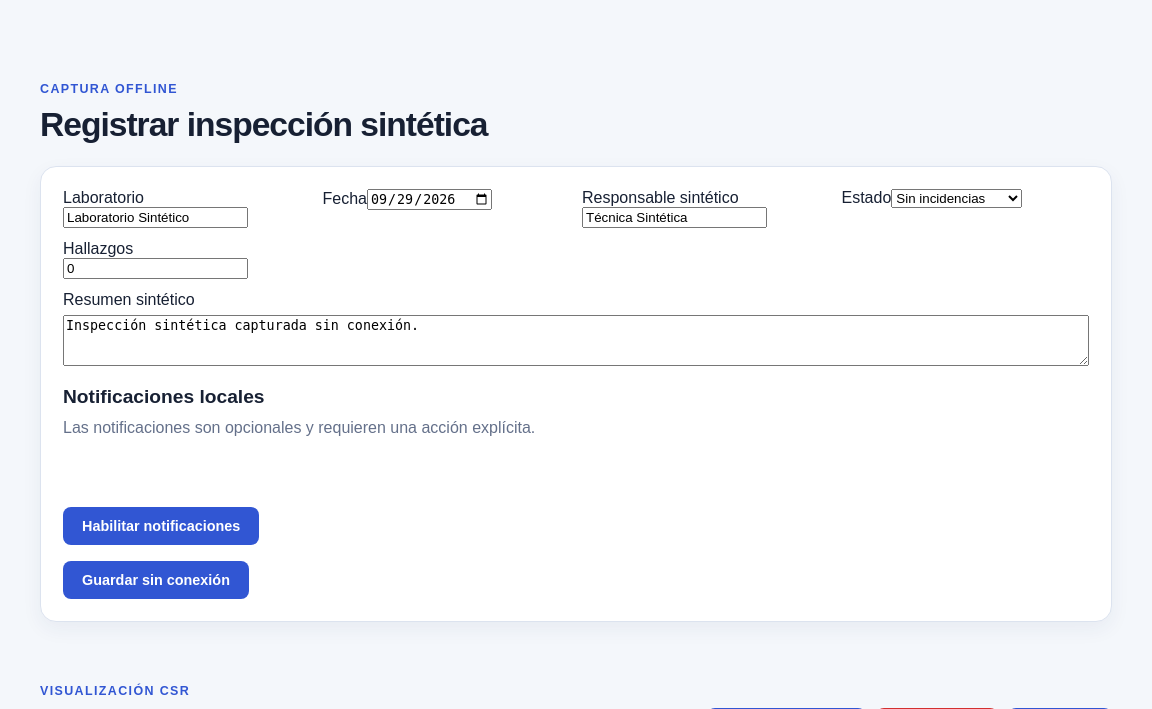
Scenario: integración de notificaciones en /inspecciones › conserva la confirmación si la notificación falla
This screenshot has width=1152, height=709.
Step 1. Click the button "Guardar sin conexión" → (156, 580), box [63, 561, 249, 599]
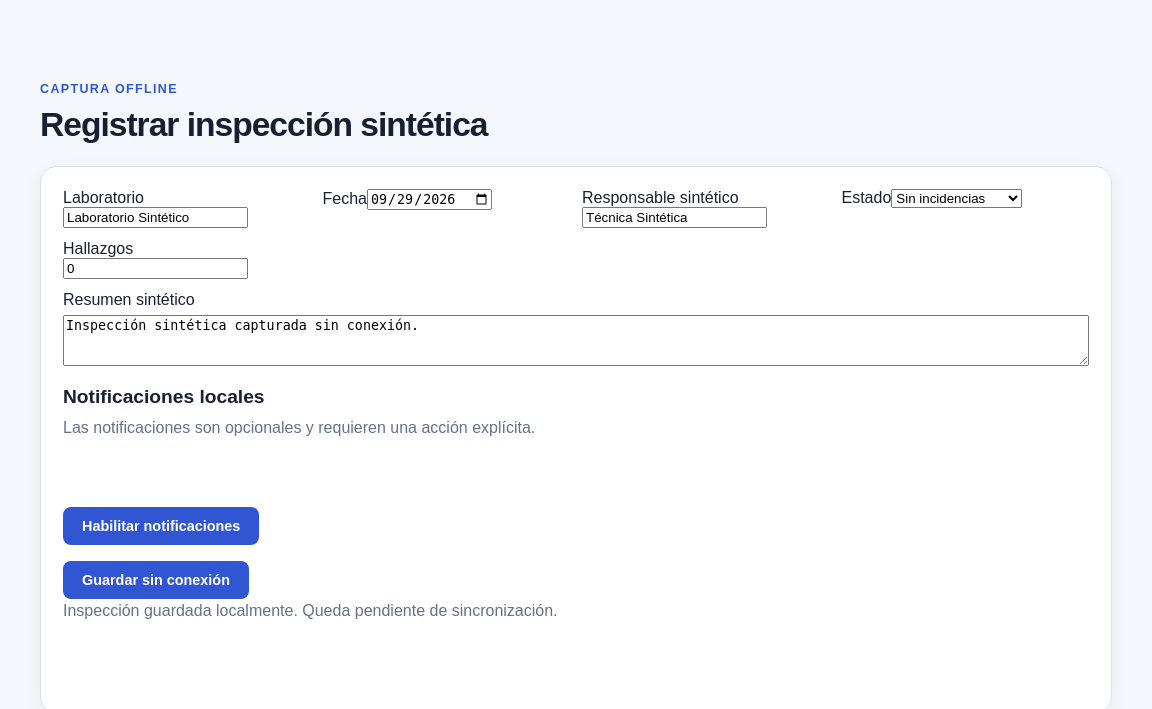
Now the text "Inspección guardada localmente. Queda pendiente de sincronización." is shown, box [63, 602, 558, 619]
